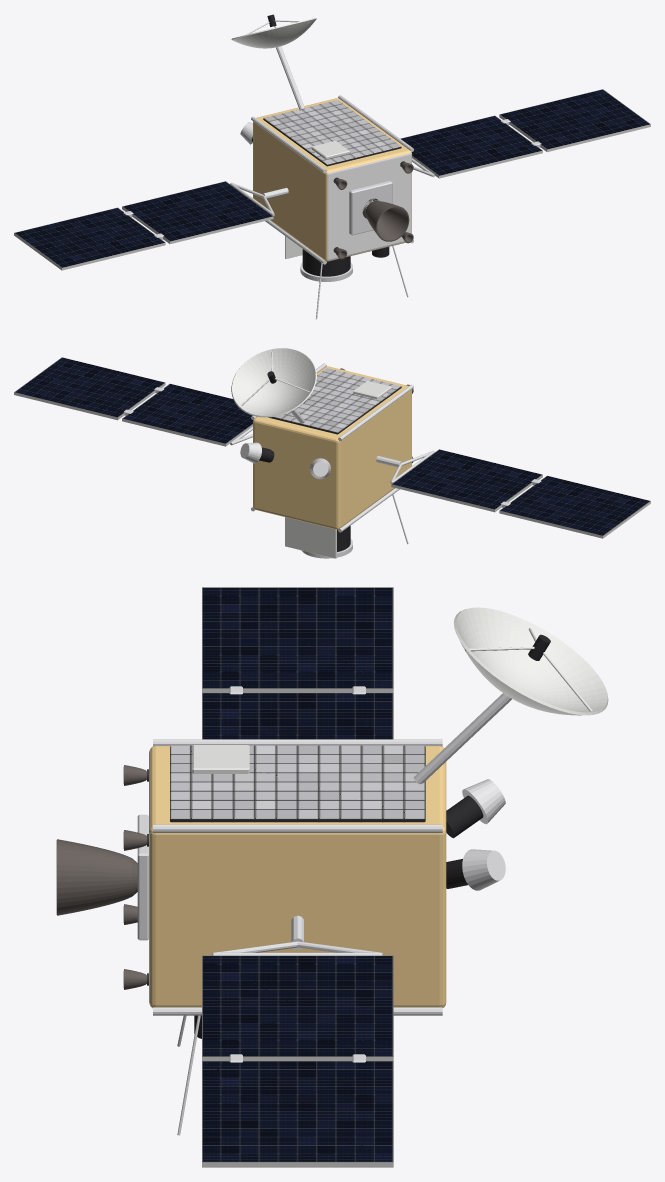
Rendered from satellite.glb.
3 renders of one model, top to bottom at view 1: azimuth 30°, elevation 25°; view 2: azimuth 150°, elevation 25°; view 3: azimuth 270°, elevation 25°, orthographic. The views are drawn at different scales.
Parts seen in each view (by area): view 1: SAT_Bus, SAT_Panel_L1, SAT_Panel_R1, SAT_Panel_L0, SAT_Panel_R0, SAT_Radiator, SAT_EngineMount, SAT_Main, SAT_Dish, SAT_Telescope, SAT_Box_Avionics; view 2: SAT_Bus, SAT_Panel_L1, SAT_Panel_L0, SAT_Panel_R1, SAT_Panel_R0, SAT_Dish, SAT_Radiator, SAT_Sunshade, SAT_Box_Avionics, SAT_Rail.001, SAT_StarBaffle.001, SAT_StarBaffle (+1 smaller); view 3: SAT_Bus, SAT_Panel_R1, SAT_Panel_R0, SAT_Panel_L1, SAT_Radiator, SAT_Dish, SAT_Panel_L0, SAT_Main, SAT_Rail.003, SAT_Rail.001, SAT_Box_Avionics, SAT_StarBaffle.001 (+5 smaller).
Part boxes in pixels (x1=…): SAT_Bus: x1=253, y1=98, x2=411, y2=261; SAT_Panel_L1: x1=14, y1=207, x2=165, y2=270; SAT_Panel_R1: x1=499, y1=89, x2=650, y2=152; SAT_Panel_L0: x1=122, y1=181, x2=273, y2=243; SAT_Panel_R0: x1=400, y1=115, x2=542, y2=178; SAT_Radiator: x1=263, y1=100, x2=401, y2=166; SAT_EngineMount: x1=349, y1=181, x2=392, y2=235; SAT_Main: x1=365, y1=201, x2=409, y2=241; SAT_Dish: x1=231, y1=18, x2=316, y2=48; SAT_Telescope: x1=302, y1=249, x2=350, y2=276; SAT_Box_Avionics: x1=311, y1=141, x2=350, y2=159; SAT_Bus: x1=253, y1=366, x2=411, y2=529; SAT_Panel_L1: x1=499, y1=475, x2=650, y2=538; SAT_Panel_L0: x1=391, y1=449, x2=542, y2=512; SAT_Panel_R1: x1=14, y1=357, x2=165, y2=420; SAT_Panel_R0: x1=122, y1=383, x2=253, y2=446; SAT_Dish: x1=231, y1=348, x2=316, y2=417; SAT_Radiator: x1=268, y1=368, x2=401, y2=434; SAT_Sunshade: x1=285, y1=517, x2=336, y2=558; SAT_Box_Avionics: x1=353, y1=380, x2=391, y2=399; SAT_Rail.001: x1=338, y1=384, x2=413, y2=441; SAT_StarBaffle.001: x1=240, y1=442, x2=261, y2=463; SAT_StarBaffle: x1=310, y1=458, x2=330, y2=479; SAT_Bus: x1=149, y1=746, x2=446, y2=1008; SAT_Panel_R1: x1=202, y1=1061, x2=393, y2=1167; SAT_Panel_R0: x1=202, y1=955, x2=393, y2=1060; SAT_Panel_L1: x1=202, y1=587, x2=393, y2=692; SAT_Radiator: x1=170, y1=745, x2=425, y2=822; SAT_Dish: x1=453, y1=607, x2=608, y2=715; SAT_Panel_L0: x1=202, y1=693, x2=393, y2=739; SAT_Main: x1=56, y1=839, x2=137, y2=915; SAT_Rail.003: x1=153, y1=824, x2=442, y2=832; SAT_Rail.001: x1=153, y1=739, x2=442, y2=746; SAT_Box_Avionics: x1=192, y1=745, x2=249, y2=773; SAT_StarBaffle.001: x1=462, y1=849, x2=505, y2=890.
Bounding box in the file's own units: 7.09 × 2.7 × 2.88.
12 materials, 2 textured.
